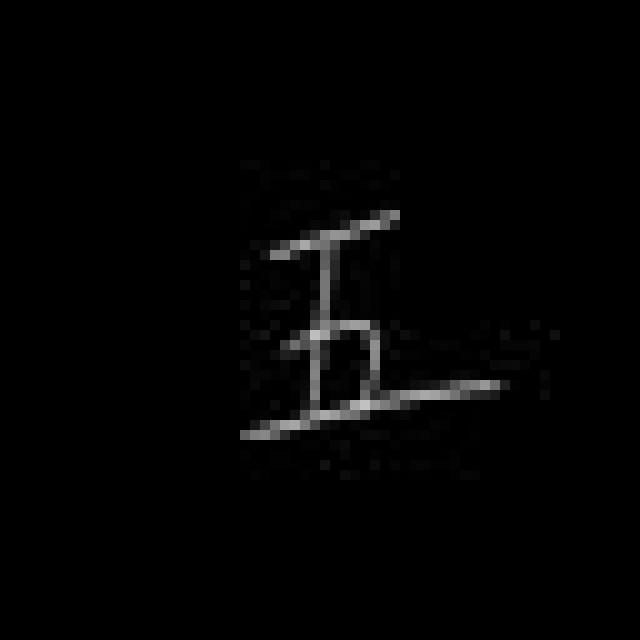5 -five-: (233, 196, 510, 460)
